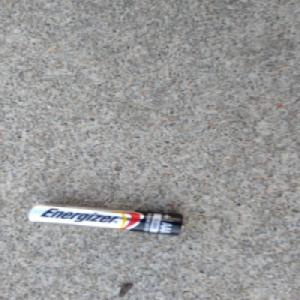Battery: (26, 202, 186, 237)
